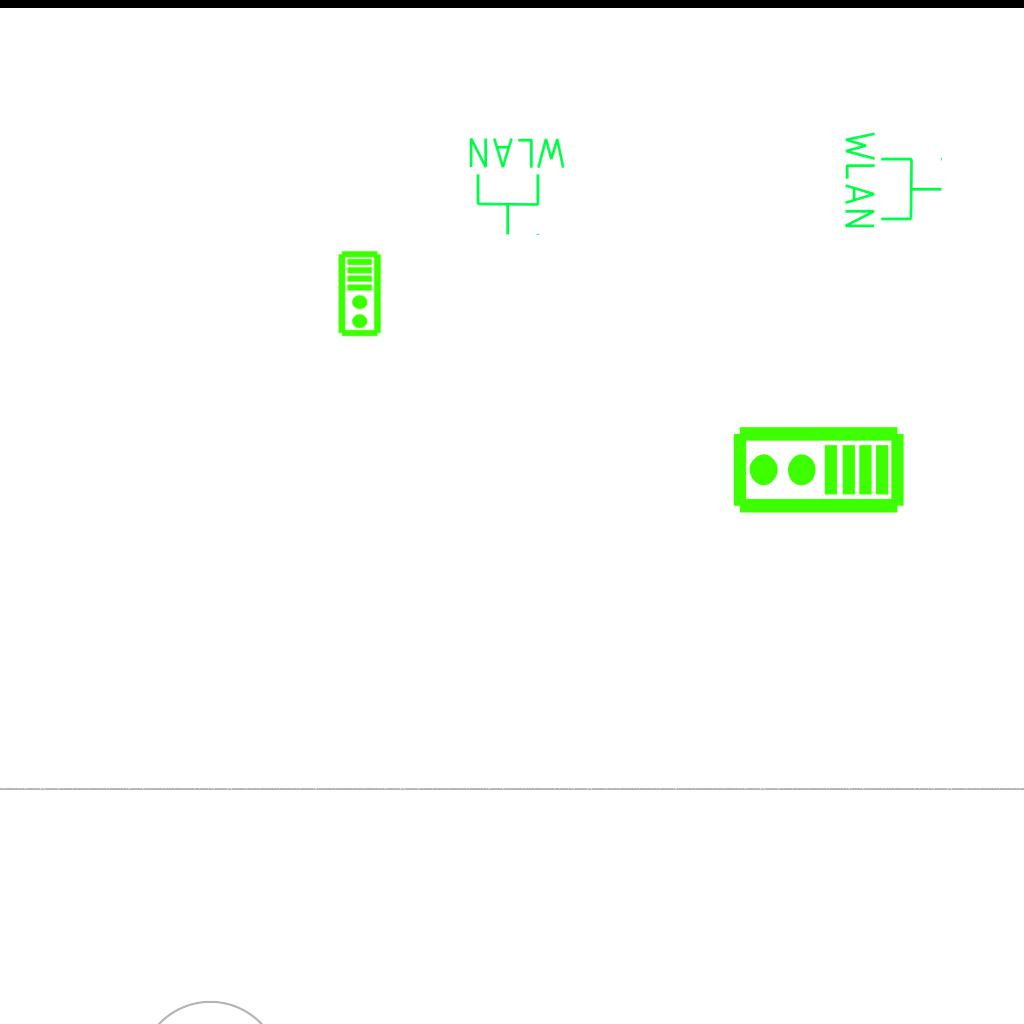Gegensprechanlage_mit_Video: (730, 424, 906, 519), (337, 250, 384, 338)
WLAN: (465, 134, 570, 238), (841, 127, 945, 232)
